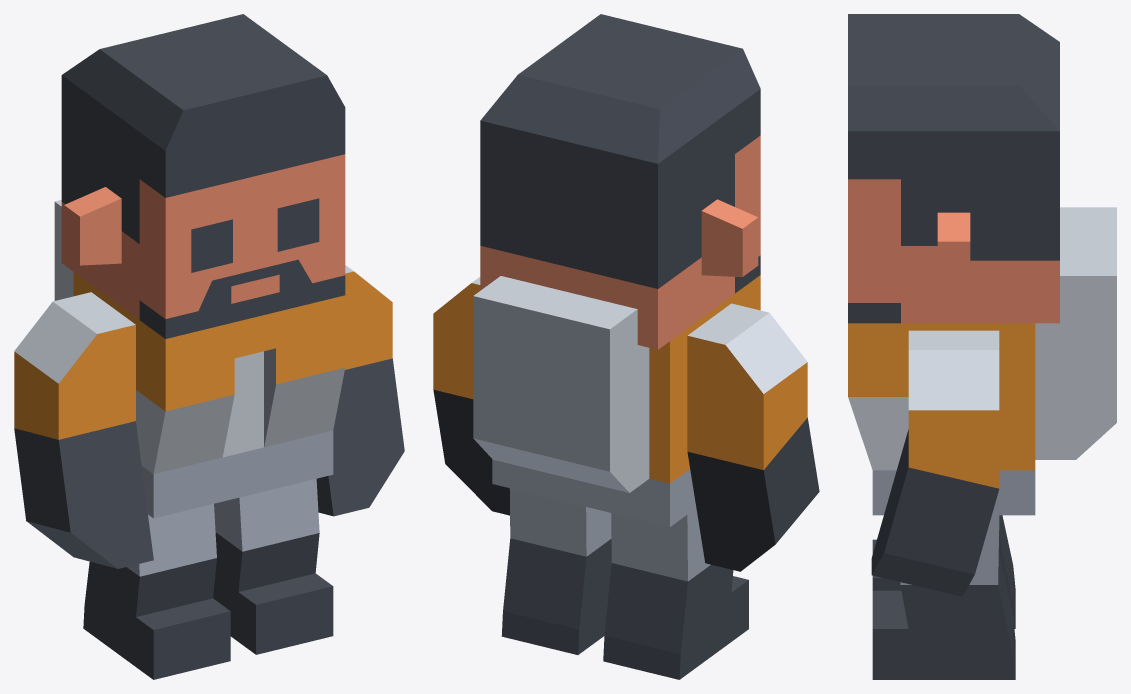
The model's file is astronautB.obj.
3 views of the same model, side by side, from view 1: azimuth 30°, elevation 25°; view 2: azimuth 150°, elevation 25°; view 3: azimuth 270°, elevation 25° (orthographic). The views are drawn at different scales.
Parts seen in each view (by area): view 1: head, body, armRight, legRight, legLeft, armLeft; view 2: head, body, armRight, legRight, legLeft, armLeft; view 3: head, body, armLeft, legLeft, legRight.
Boxes of the visible parts, x1,y1,x2,y2 form: head: (61,14,345,338); body: (54,200,345,518); armRight: (14,292,153,568); legRight: (83,504,230,679); legLeft: (213,478,333,654); armLeft: (316,265,404,516); head: (480,14,760,349); body: (473,275,760,527); armRight: (687,303,819,571); legRight: (603,508,748,679); legLeft: (501,488,611,654); armLeft: (433,277,509,515); head: (848,14,1059,323); body: (848,207,1116,515); armLeft: (871,330,999,596); legLeft: (872,515,1015,679); legRight: (872,515,1015,628).
Bounding box in the file's own units: 0.4832 × 0.7932 × 0.33.
